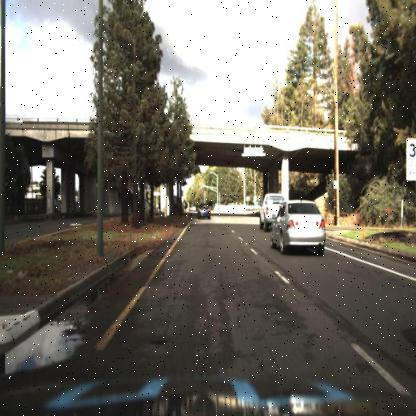car: (266, 195, 326, 257), (257, 188, 287, 228), (195, 200, 212, 223)
